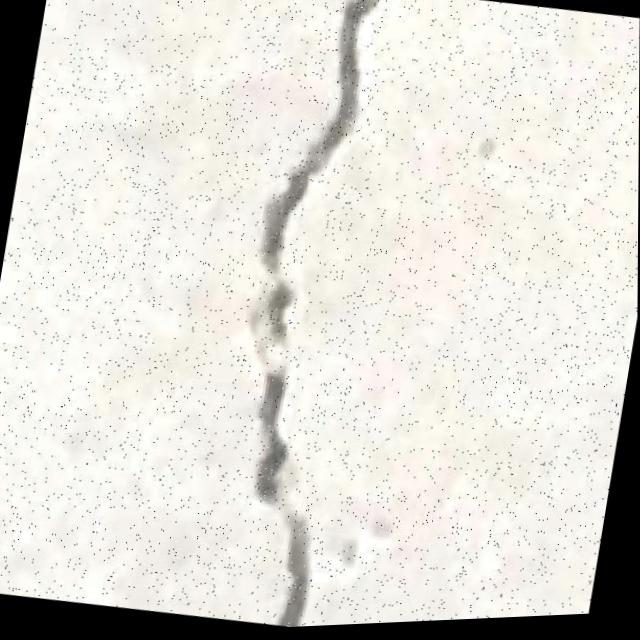Crack: (184, 0, 419, 633)
